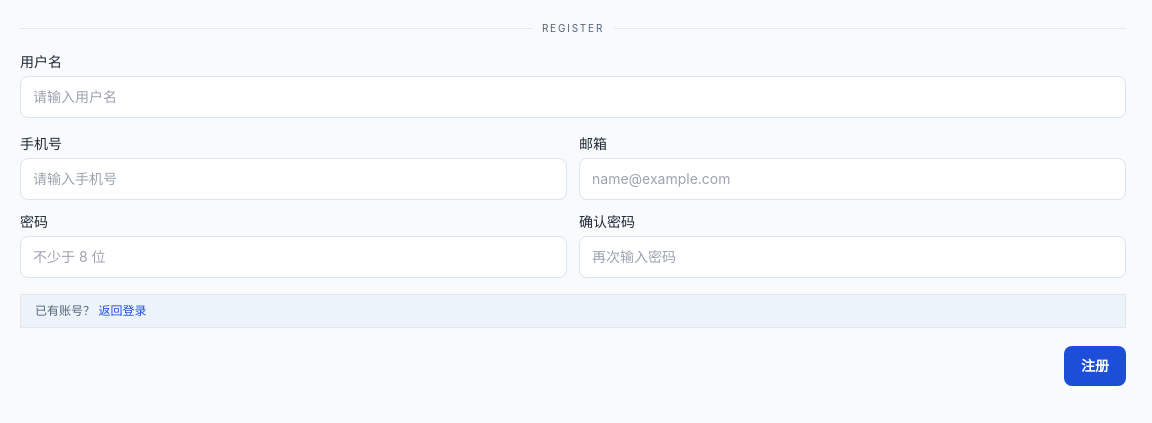
AuthRegisterForm async lifecycle › validates local fields before sending an availability request: {"phone":"123"}
Type "register_user" into the field with id "auth-register-username" at [573, 97], box [20,76,1126,118]
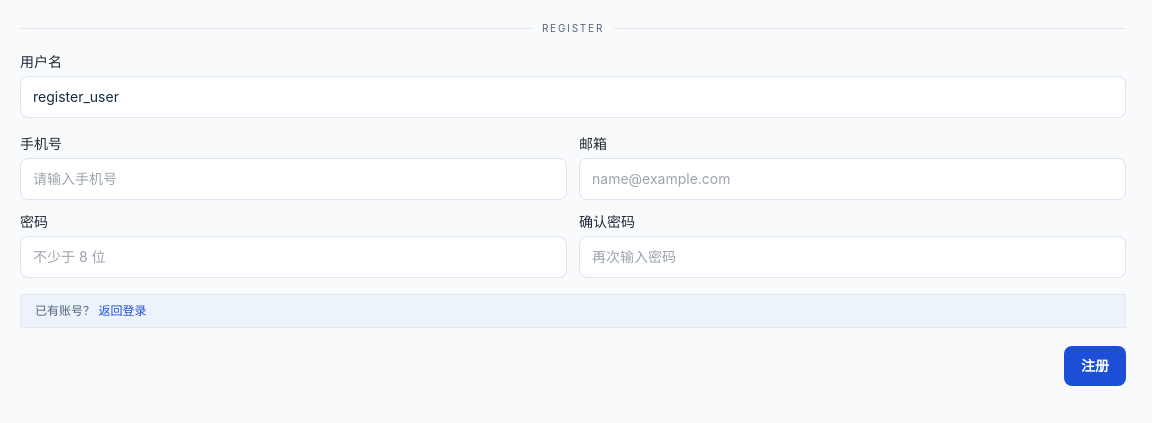
Type "123" into the field with id "auth-register-phone" at [294, 179], box [20,158,567,200]
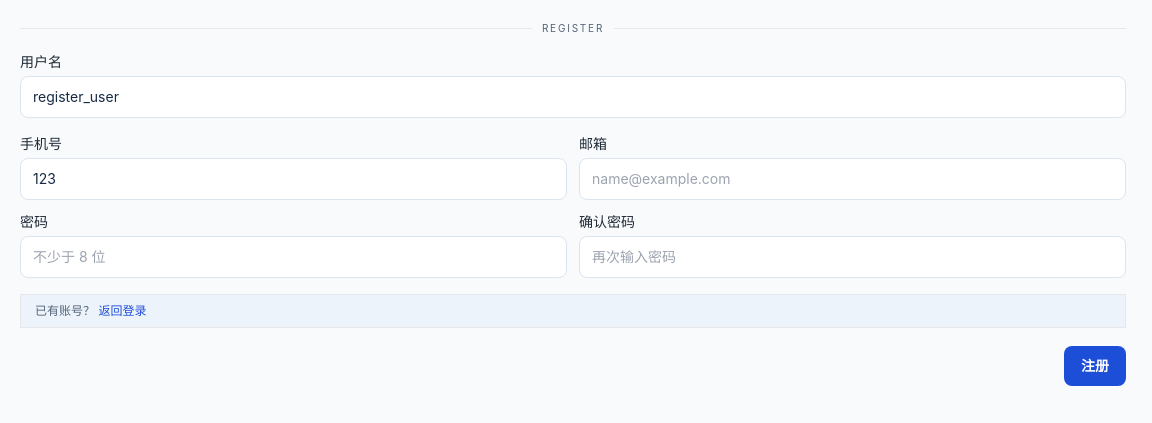
Type "register@example.com" into the field with id "auth-register-email" at [852, 179], box [579,158,1126,200]
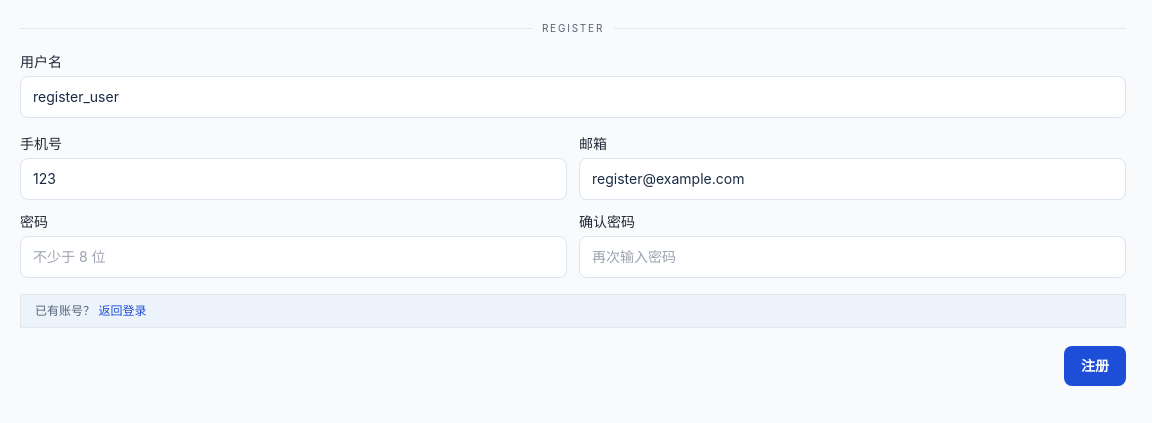
Type "StrongPass1" into the password field with id "auth-register-password" at [294, 257], box [20,236,567,278]
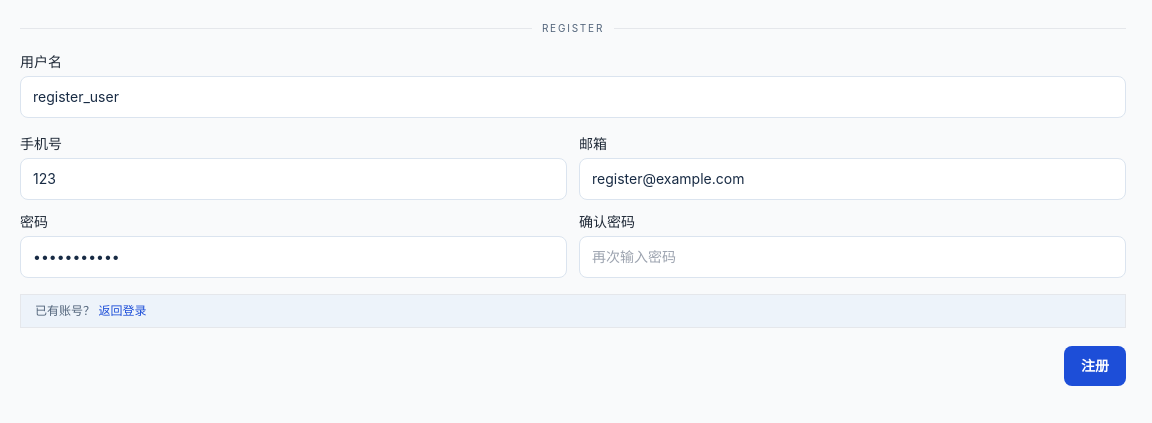
Type "StrongPass1" into the password field with id "auth-register-confirm-password" at [852, 257], box [579,236,1126,278]
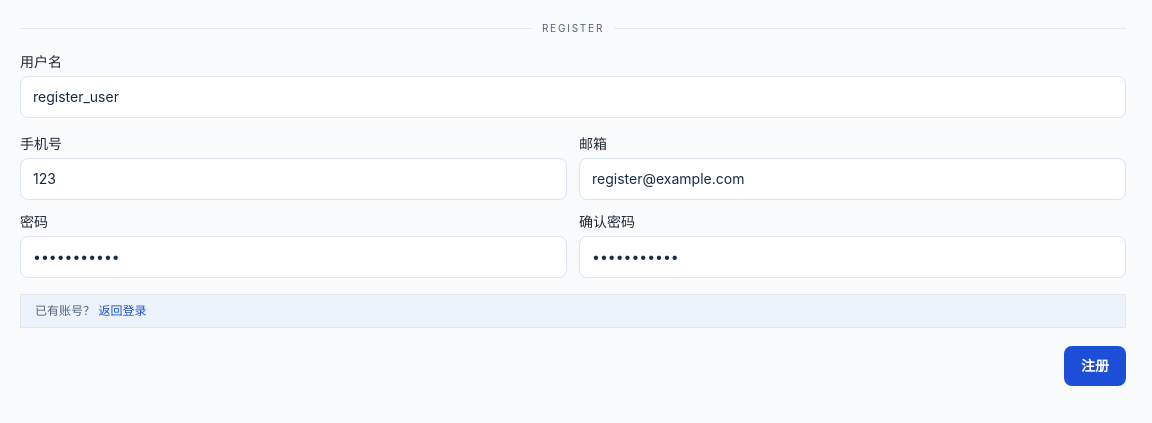
Submit the form
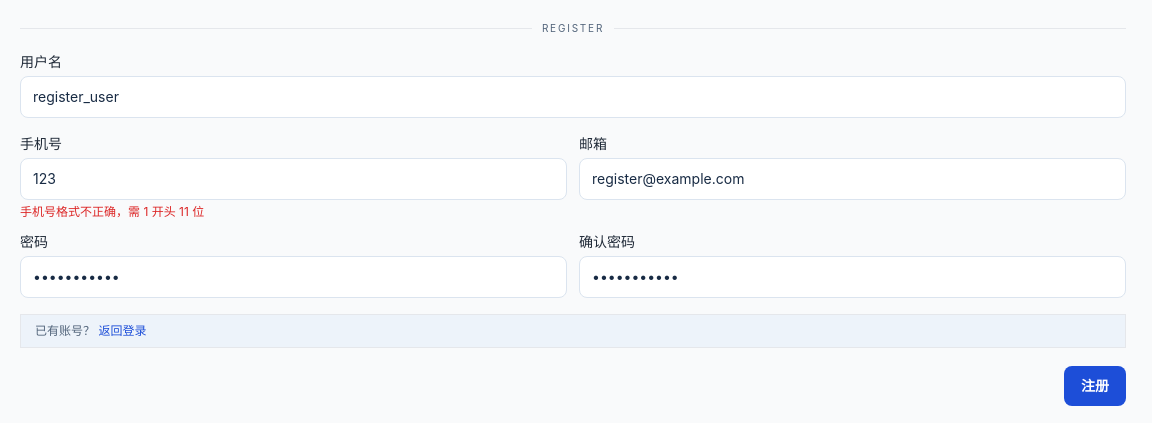
Expected: the message "手机号格式不正确，需 1 开头 11 位" is shown, [20,204,204,219]
